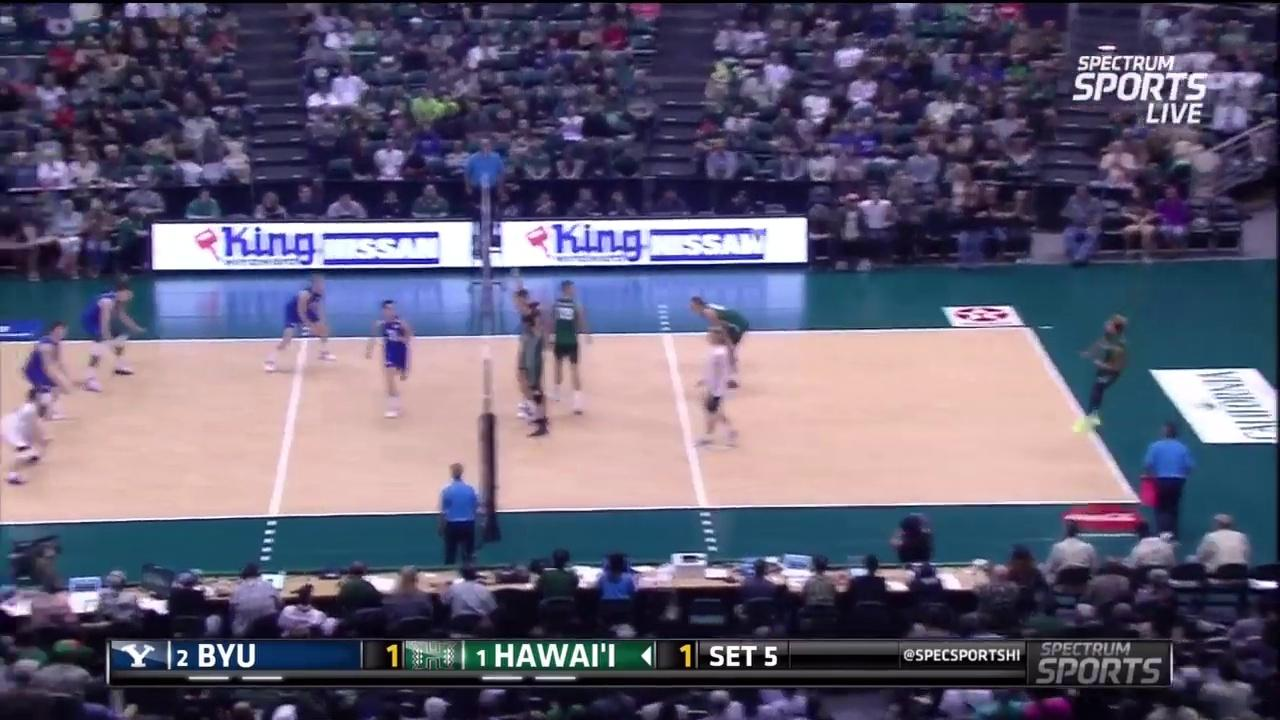player: (684, 327, 753, 456), (84, 276, 145, 390), (1072, 313, 1128, 432), (686, 289, 750, 391), (268, 279, 336, 370), (0, 389, 58, 494), (20, 315, 75, 424), (368, 297, 415, 417), (520, 313, 557, 447), (551, 280, 588, 410), (509, 278, 540, 419)
refree: (1140, 413, 1196, 554), (434, 461, 483, 569), (466, 136, 508, 245)
